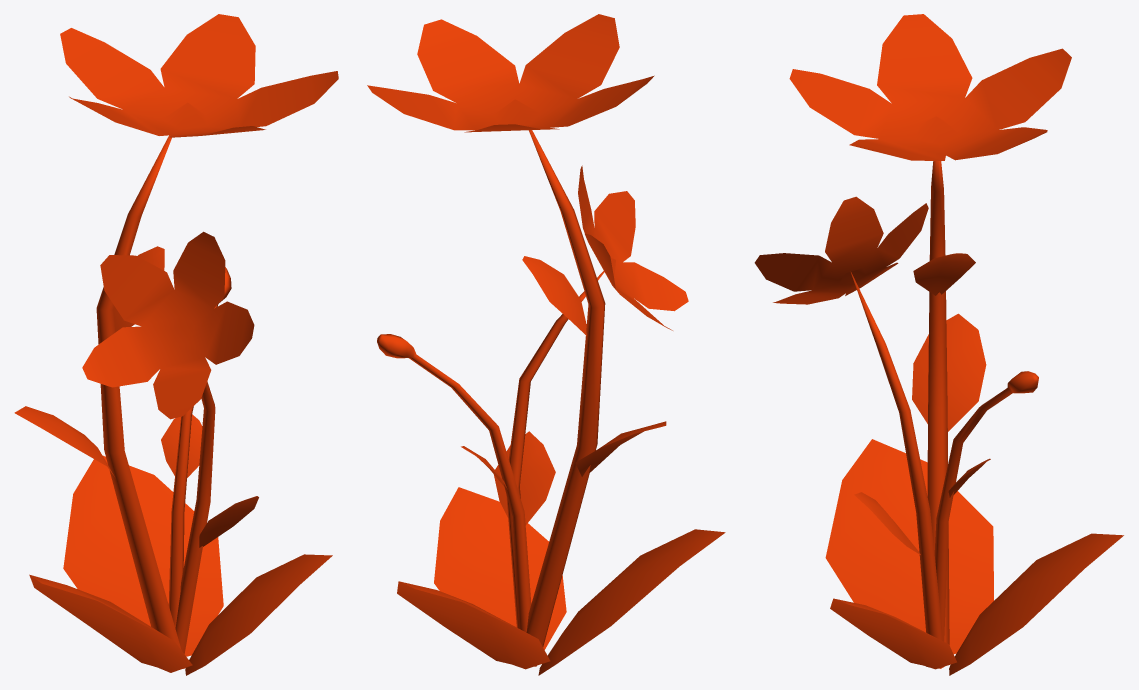
The picture shows the model from 3 angles, left to right: view 1: azimuth 30°, elevation 25°; view 2: azimuth 150°, elevation 25°; view 3: azimuth 270°, elevation 25°; orthographic projection.
Visible parts, largest first — view 1: Flower.007; view 2: Flower.007; view 3: Flower.007.
Boxes of the visible parts, x1=… form: Flower.007: x1=14, y1=14, x2=338, y2=675; Flower.007: x1=367, y1=14, x2=725, y2=675; Flower.007: x1=754, y1=14, x2=1123, y2=675.
Bounding box in the file's own units: 1.36 × 2.62 × 1.48.
